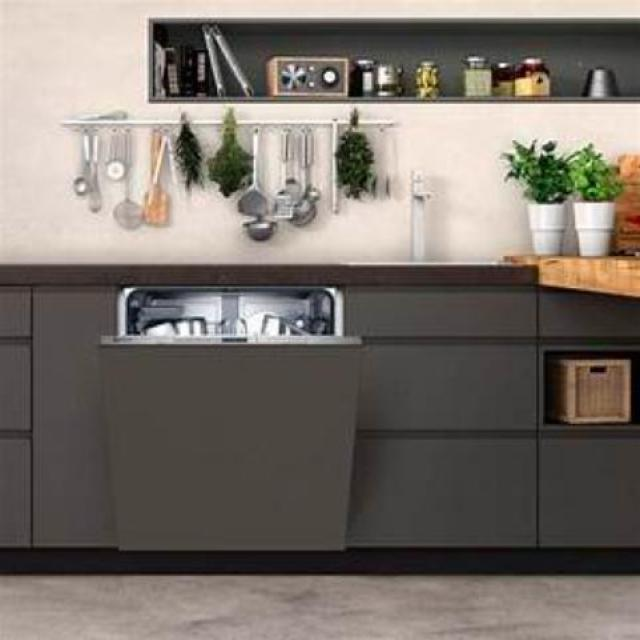dishwasher: (94, 284, 366, 549)
